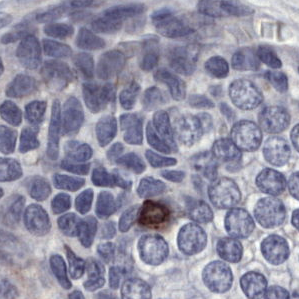Lymphocyte: (137, 199, 172, 230)
